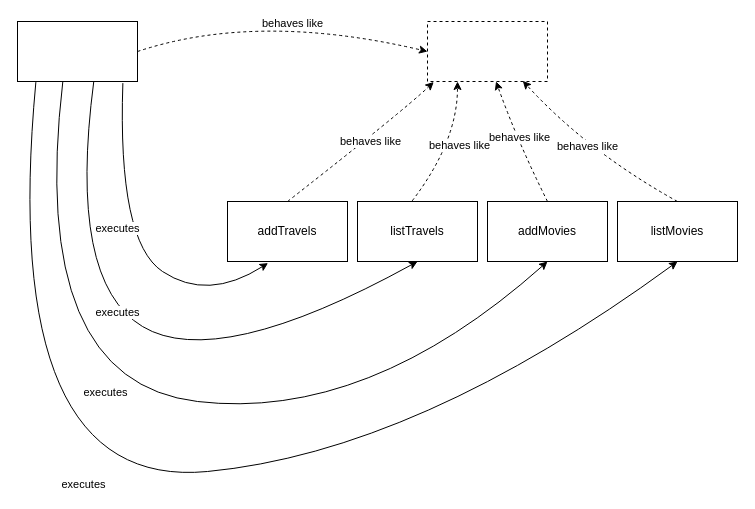
Image size: 755x509. Some labels were removed from this diagram. The shapes that lost their labels are listed below. From the top down, each one's centre as x and y in pixels, then its label:
the point at 77,51: menu
the point at 487,51: function (idea/abstract)
